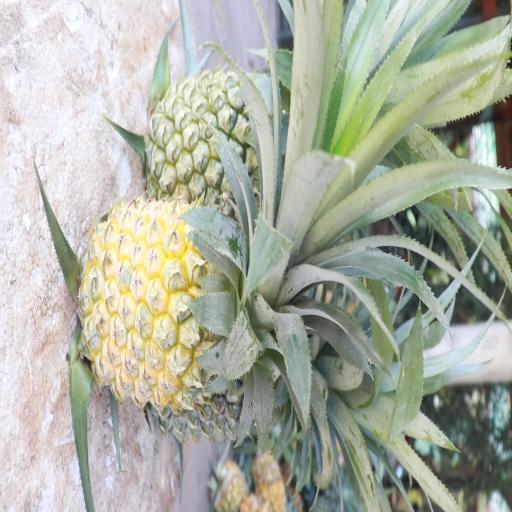------------------------------: (83, 202, 294, 411), (142, 58, 312, 218)
